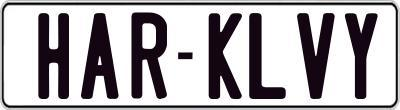A: (78, 12, 115, 102)
H: (38, 12, 75, 98)
K: (209, 10, 244, 97)
L: (246, 10, 287, 100)
R: (131, 9, 166, 98)
V: (294, 12, 338, 103)
Y: (343, 11, 377, 100)
